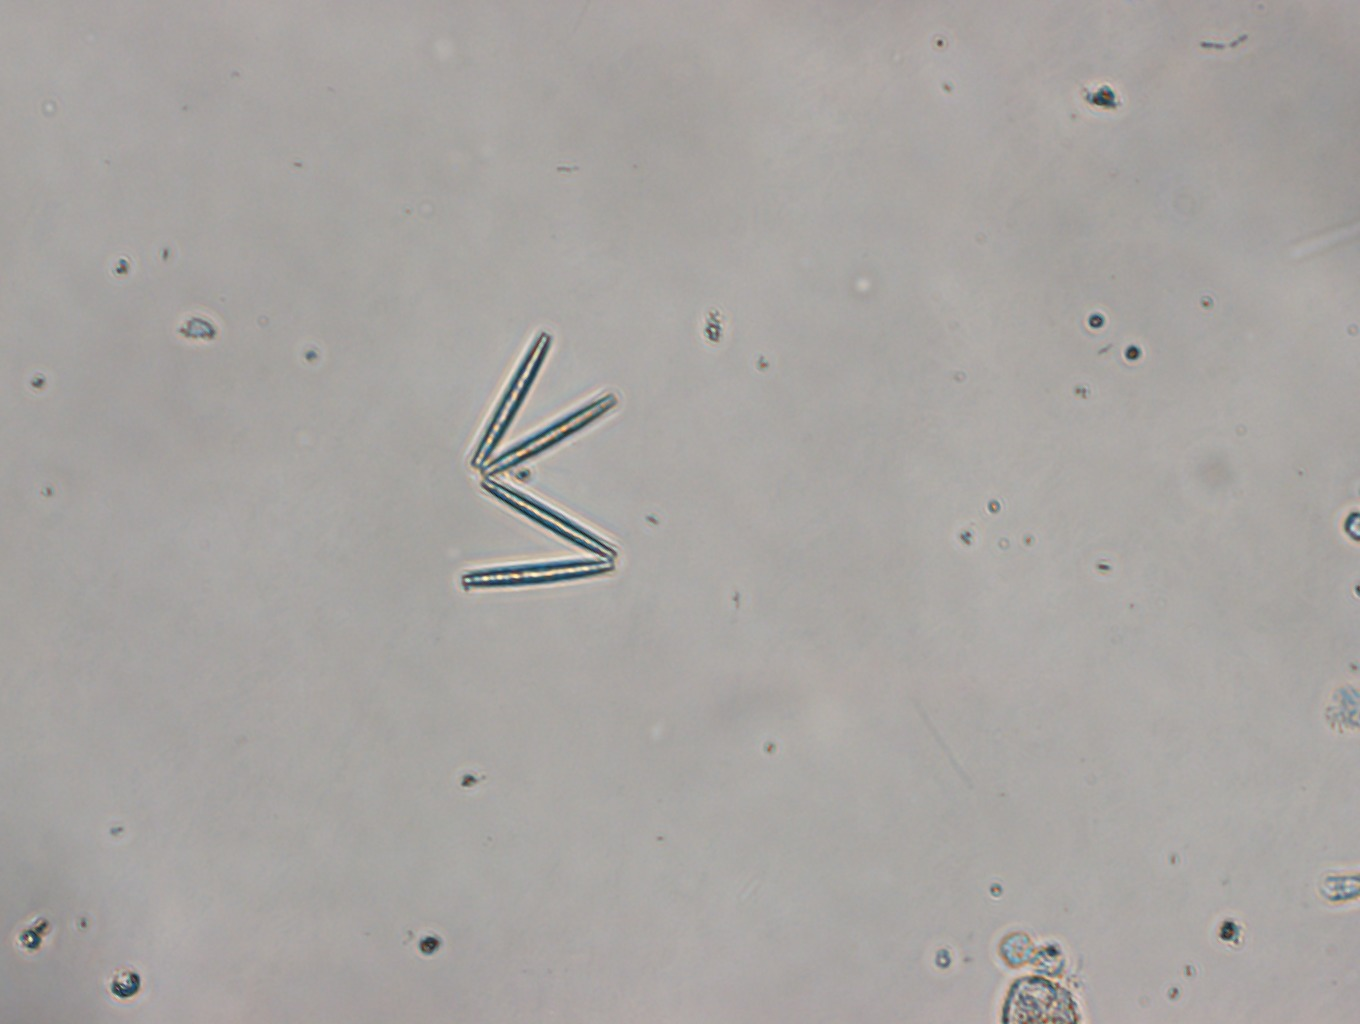thalassionema nitzschioides: (460, 328, 617, 591)
